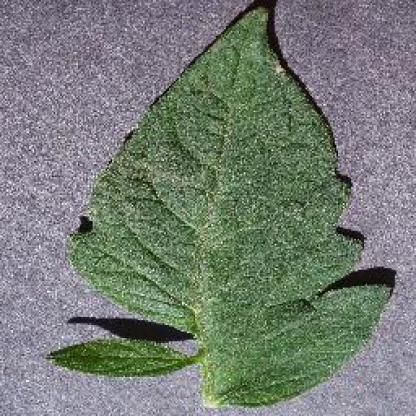bad leaf: (49, 2, 386, 407)
